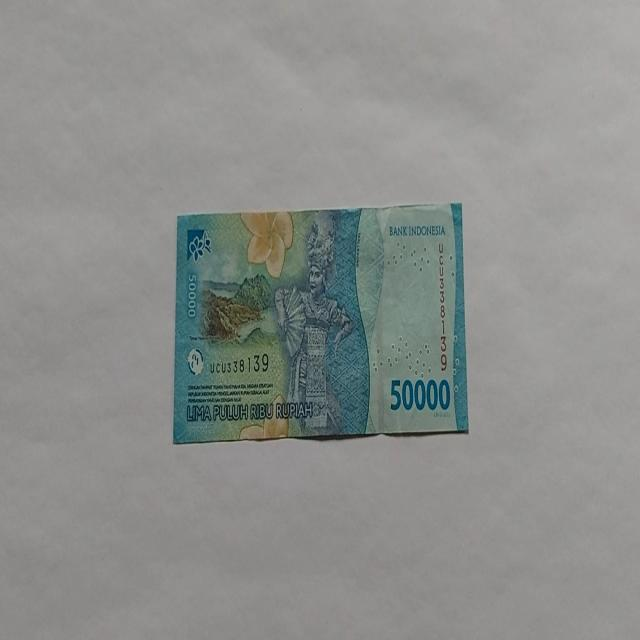lima puluh ribu rupiah: (172, 202, 469, 444)
